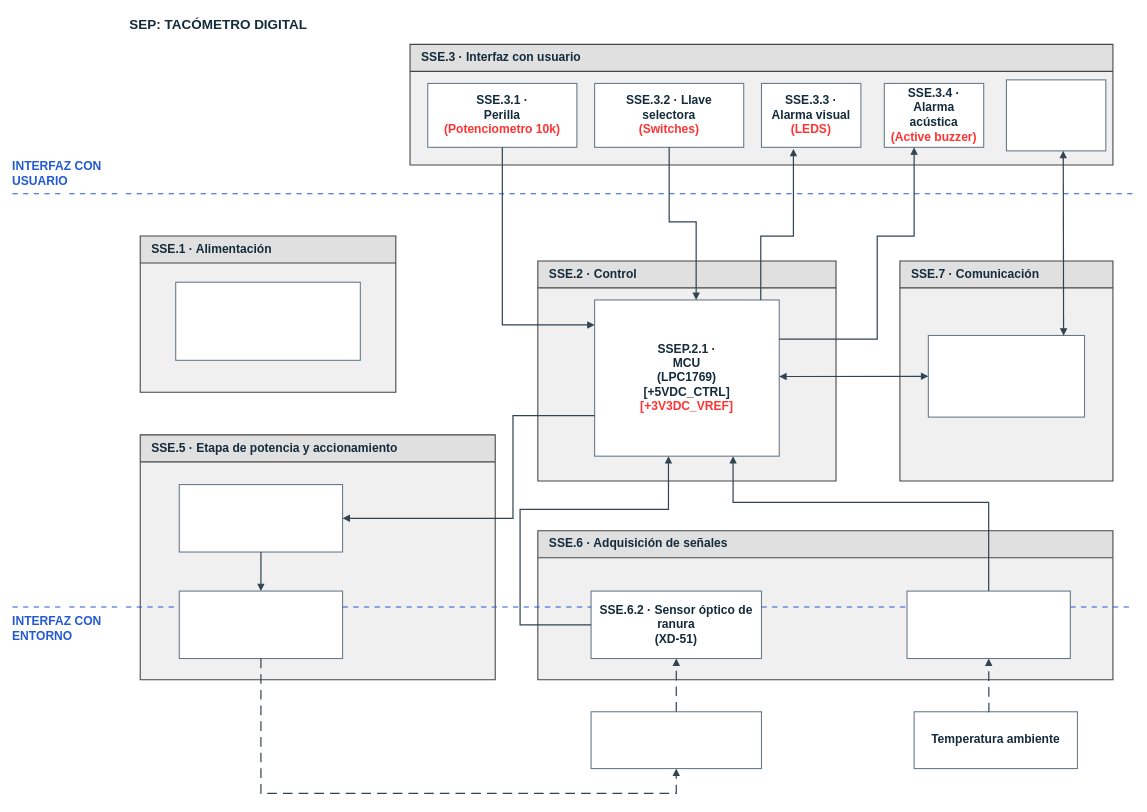
Some shapes in this 1147 by 812 pixel diagram are drawn without their labels. Each missing label, with the centre of its shape:
Disco de 60 ranuras: the point at 676,740
SSE.1.1 · Alimentación (a definir): the point at 268,321
SSE.3.5 · UI Notebook (pantalla y teclado): the point at 1056,115
SSE.5.1 · Driver para motor DC: the point at 260,518
SSE.5.1.1 Motor DC con reductora: the point at 260,624
SSE.6.1 · Sensor de temperatura (LM35): the point at 988,624
SSE.7.1 · Conversor USB- UART: the point at 1006,376
